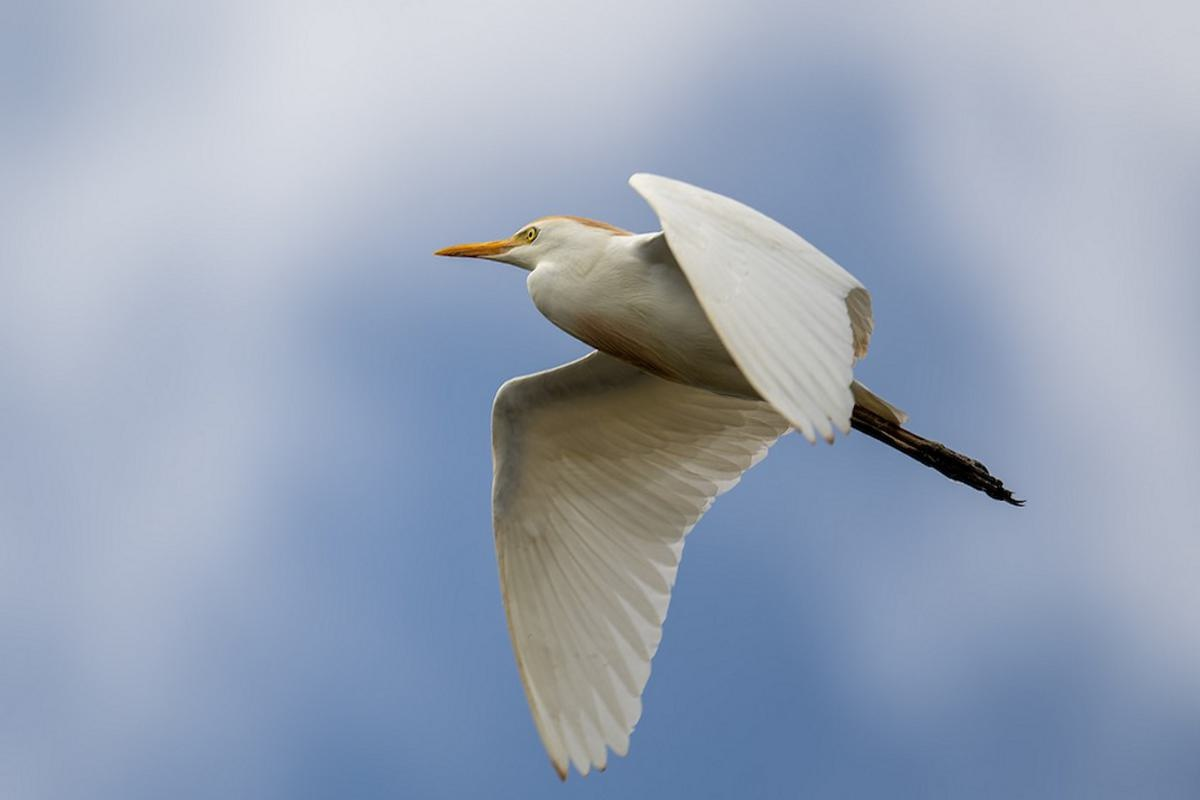egret: (418, 166, 1030, 778)
